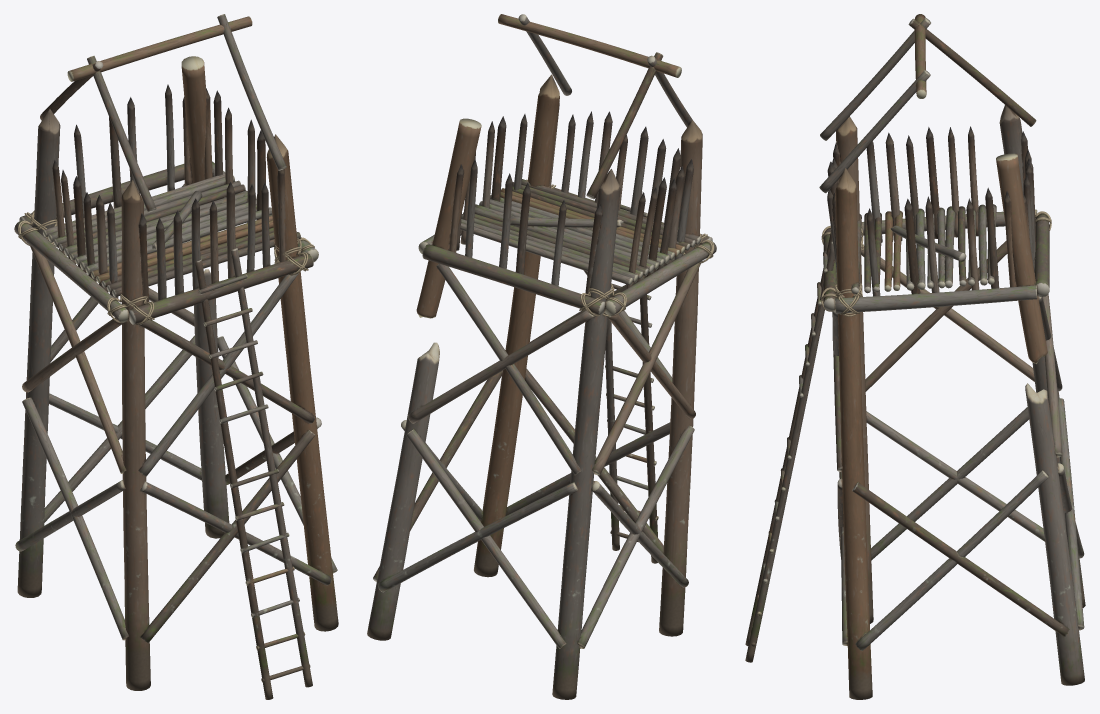
The model's file is SM_SiegeBarricade_Watchtower.fbx.
The picture shows the model from 3 angles, left to right: view 1: azimuth 30°, elevation 25°; view 2: azimuth 150°, elevation 25°; view 3: azimuth 270°, elevation 25°; orthographic projection. The views are drawn at different scales.
Parts seen in each view (by area): view 1: SM_SiegeBarricade_Watchtower; view 2: SM_SiegeBarricade_Watchtower; view 3: SM_SiegeBarricade_Watchtower.
Part boxes in pixels (x1,y1,x2,y2): SM_SiegeBarricade_Watchtower: (14, 14, 338, 699); SM_SiegeBarricade_Watchtower: (367, 14, 716, 699); SM_SiegeBarricade_Watchtower: (745, 14, 1085, 699).
Bounding box in the file's own units: 380 × 484 × 952.
